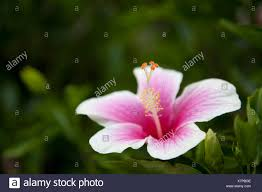hybiscus: (78, 59, 241, 161)
